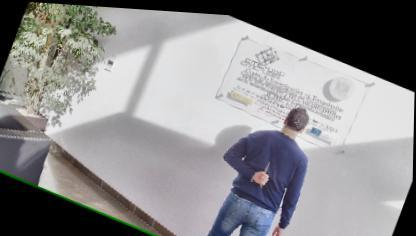knife: (256, 152, 276, 185)
